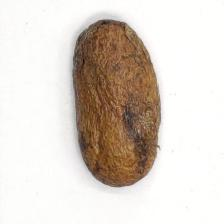NG: (73, 20, 161, 186)
